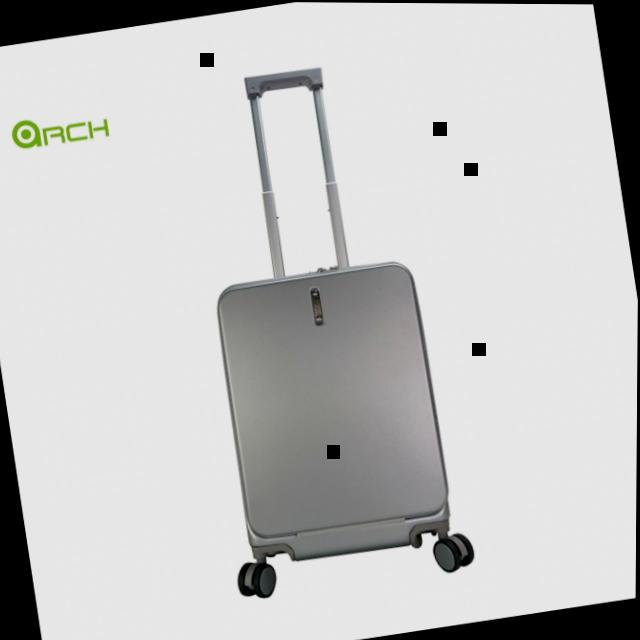luggage: (201, 246, 469, 578)
